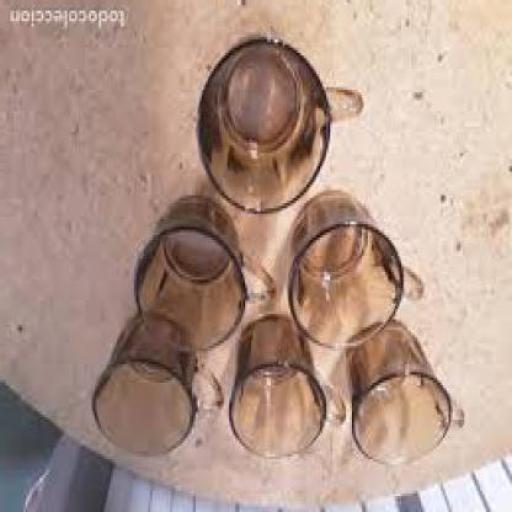glass: (198, 37, 366, 219), (137, 198, 277, 356), (290, 196, 424, 353), (95, 316, 225, 459), (344, 322, 467, 469), (230, 317, 348, 462)
